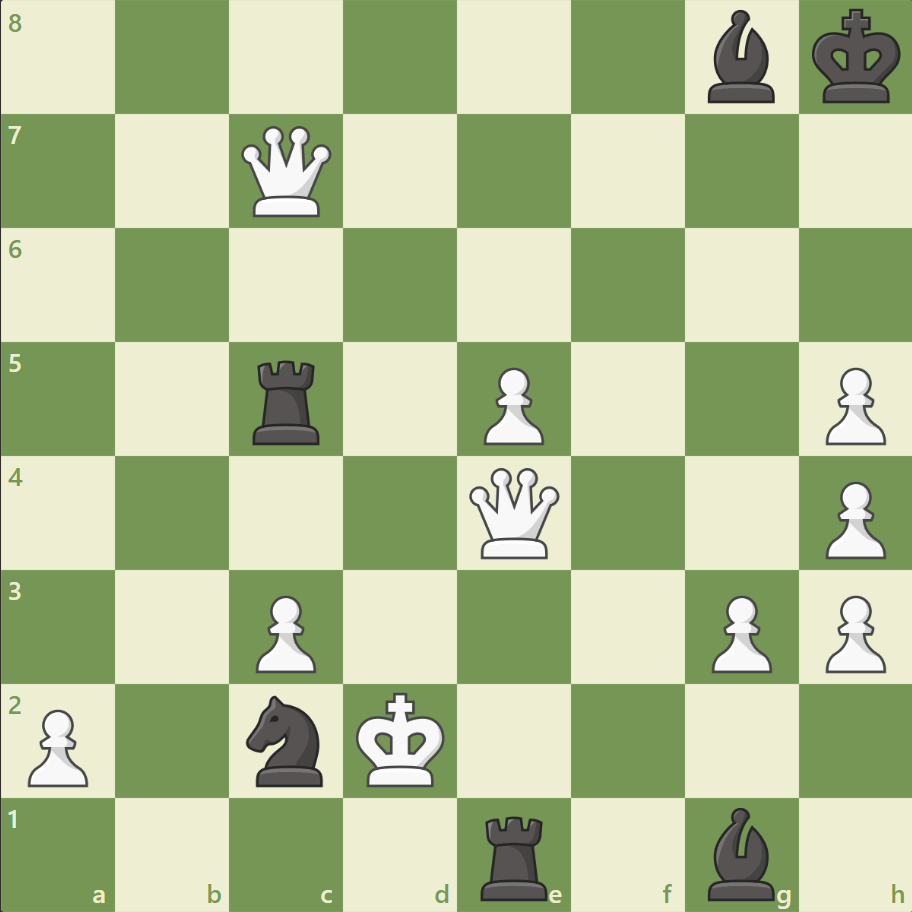K: (351, 685, 451, 793)
P: (474, 359, 549, 450), (247, 586, 322, 677), (701, 586, 776, 677), (20, 700, 95, 791), (815, 359, 889, 450), (815, 473, 889, 564), (815, 586, 889, 677)
Q: (237, 122, 336, 222), (464, 463, 563, 562)
b: (698, 6, 782, 109), (698, 801, 782, 904)
k: (806, 4, 906, 112)
n: (238, 688, 335, 791)
r: (473, 806, 556, 904), (246, 352, 329, 449)
